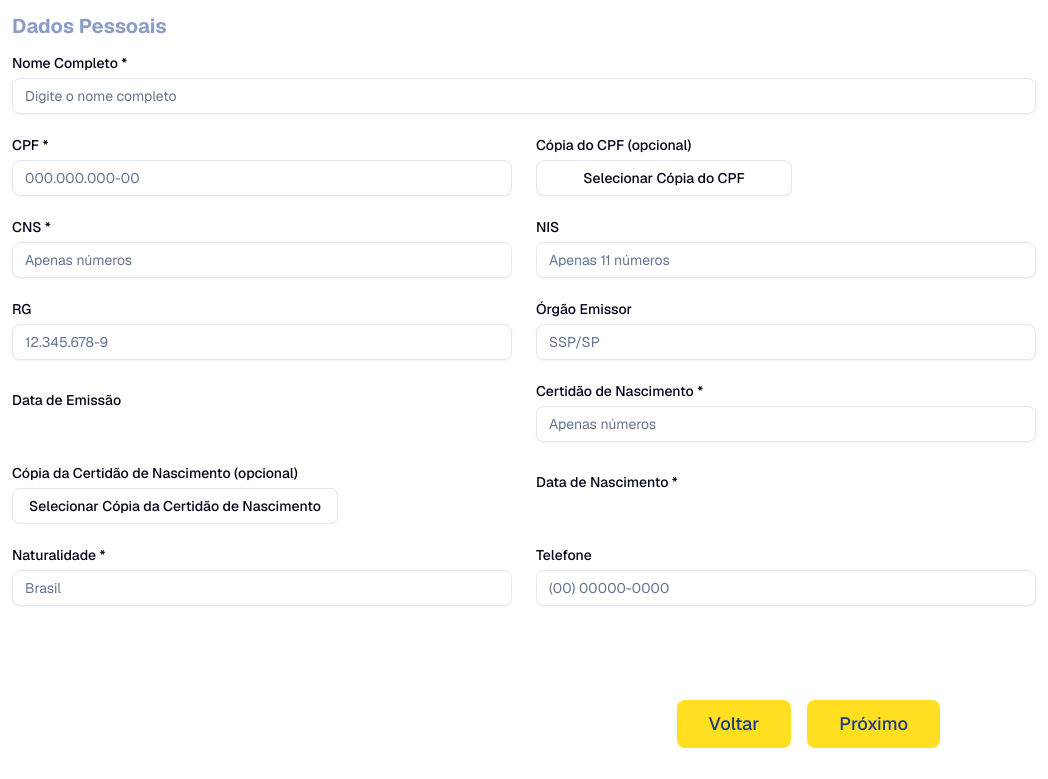
Test: MembersRegisterPersonalPage - Cartório, Livro e Folha (#1132) › esconde os campos e a dica quando a certidão atinge 32 dígitos
The width and height of the screenshot is (1048, 779).
Type "12345" into the field labelled "Certidão de Nascimento *" at (786,424), box [536, 406, 1036, 442]
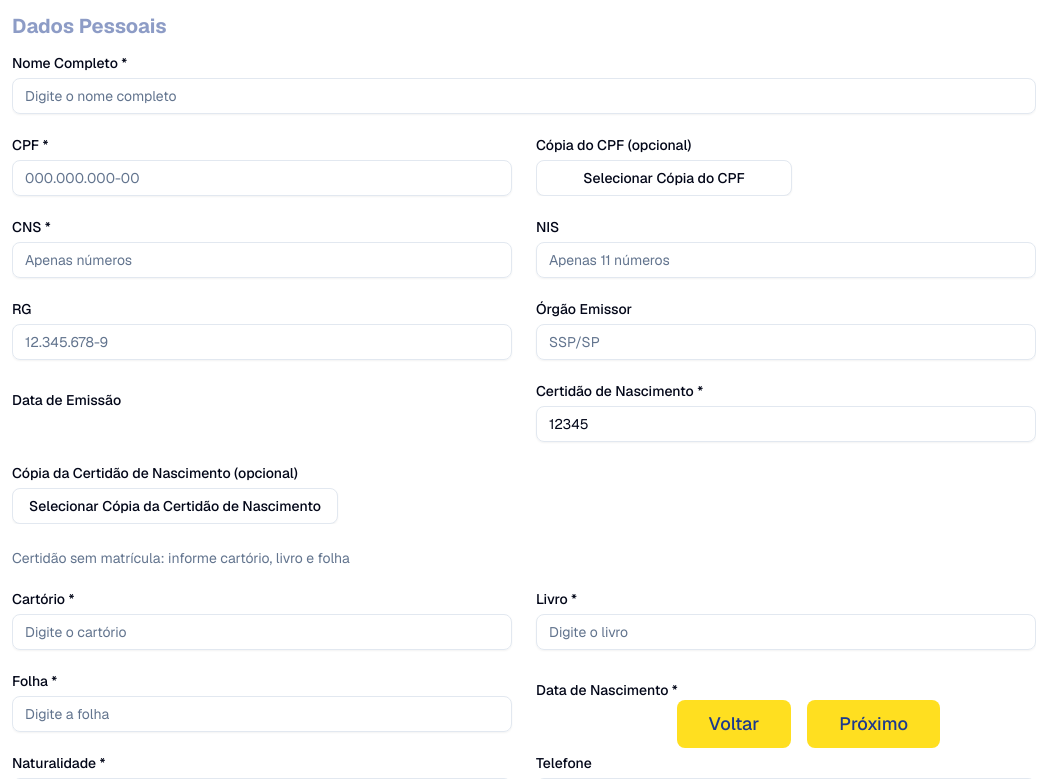
Result: the field labelled "Cartório *" is shown at [12, 614, 512, 650]
Result: the text "Certidão sem matrícula: informe cartório, livro e folha" is shown at [12, 549, 350, 567]
Em seguida digita certidão com 32 dígitos
Replace the text in the field labelled "Certidão de Nascimento *" with "12345678901234567890123456789012" at (786,424), box [536, 406, 1036, 442]
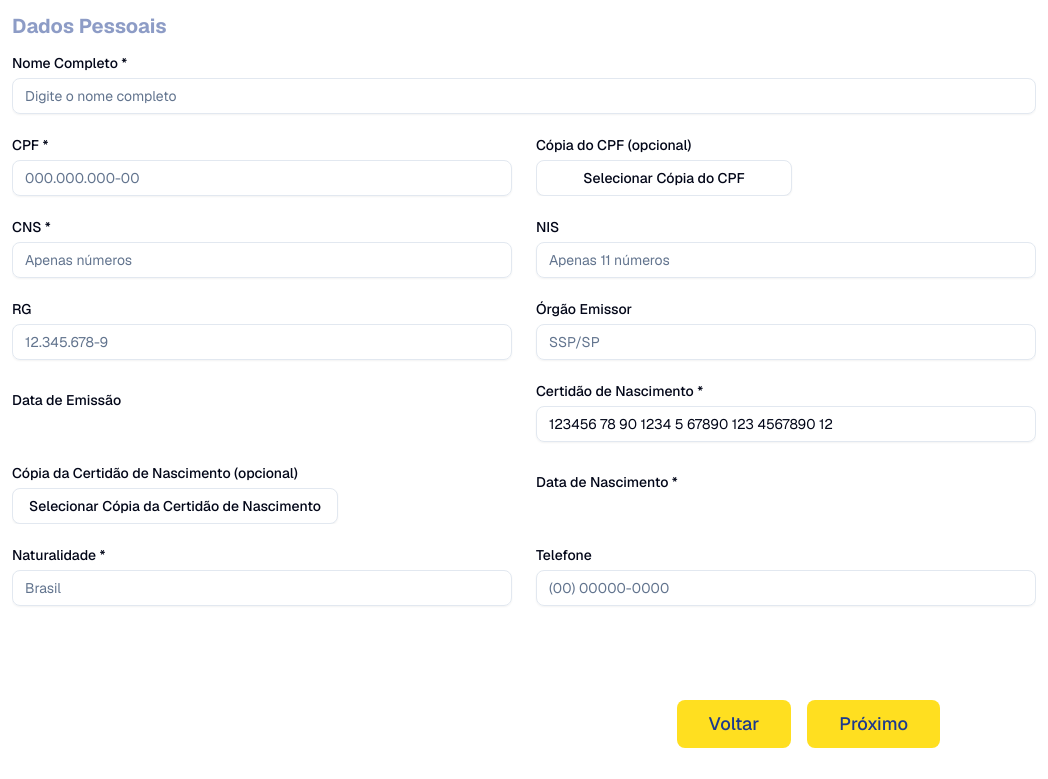
Result: the text labelled "cartório" is gone
Result: the text labelled "livro" is gone
Result: the text labelled "folha" is gone
